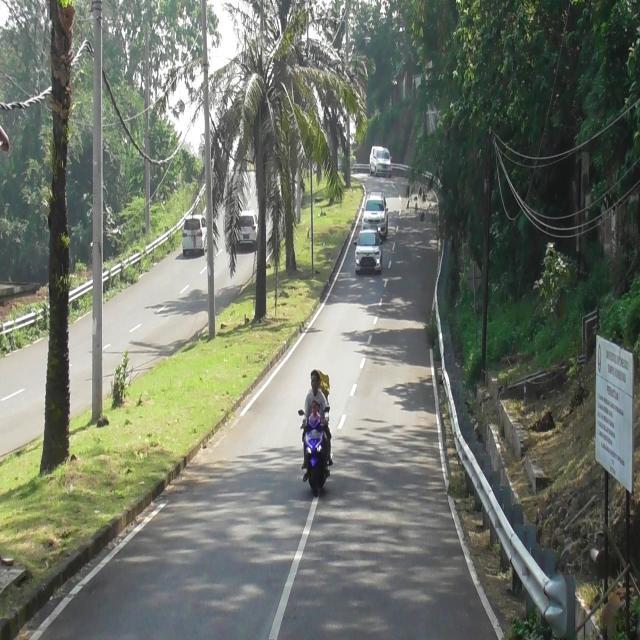motorcycle: (298, 407, 332, 496)
person: (301, 369, 330, 426), (318, 369, 330, 410), (308, 401, 321, 423)
rider_region: (296, 364, 334, 502)
